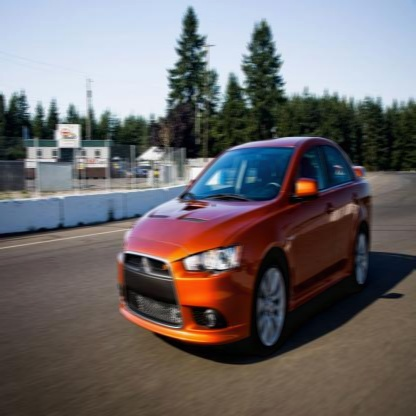Vehicle: (117, 135, 374, 358)
